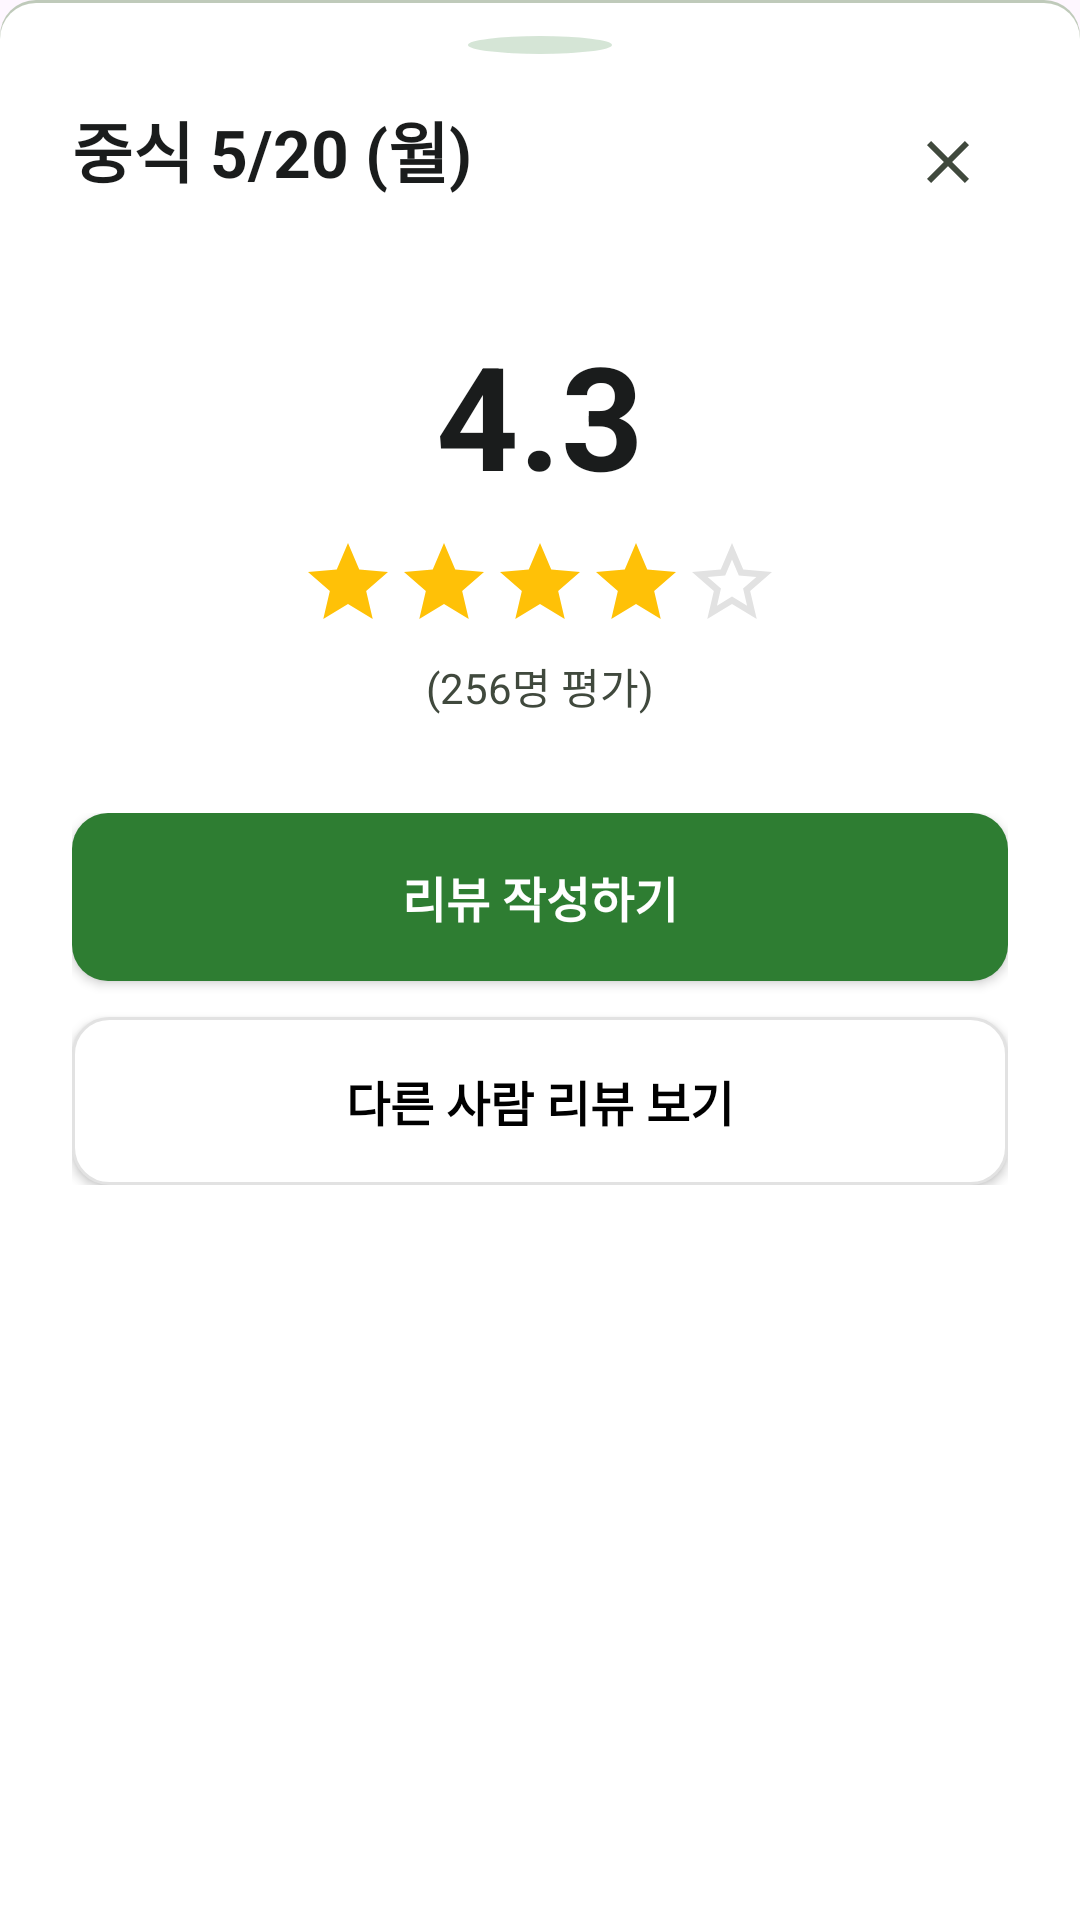

Screen size 1080px×1920px. Icon name, then its center in pixels as [x,y]:
close: [948,162]
star: [348,581], [444,581], [540,581], [636,581]
star border: [732,581]
